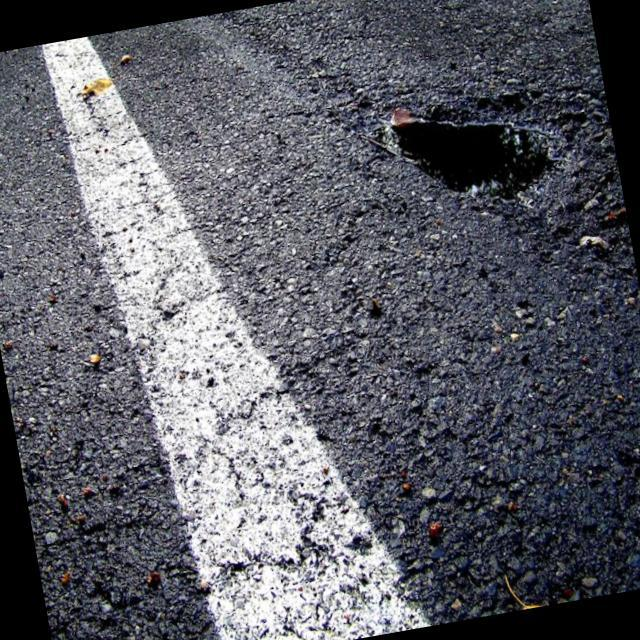Pothole: (362, 70, 576, 227)
